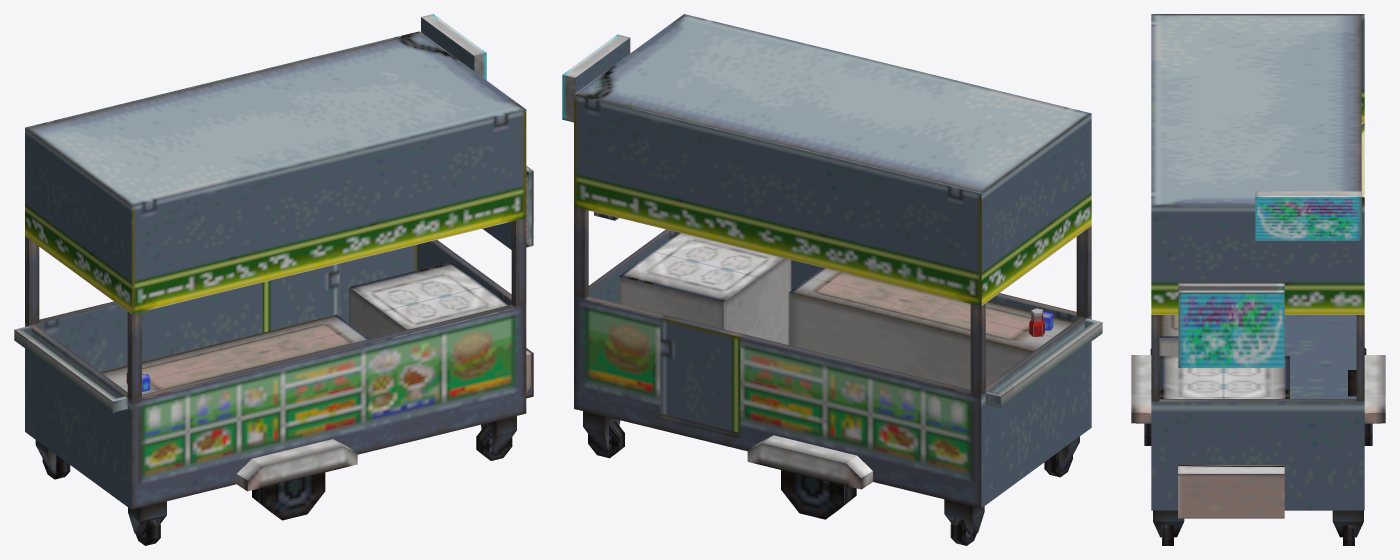
The model's file is Poly_SF_Outside_B_Food_Stall_01.obj.
The picture shows the model from 3 angles, left to right: view 1: azimuth 30°, elevation 25°; view 2: azimuth 150°, elevation 25°; view 3: azimuth 270°, elevation 25°; orthographic projection. The views are drawn at different scales.
Parts seen in each view (by area): view 1: Cube.006, Cube.001, Cube.004, Cube.007, Cube.002, Cube.003; view 2: Cube.006, Cube.001, Cube.007, Cube.004, Cube.002, Cube.003; view 3: Cube.006, Cube.001, Cube.003, Cube.004, Cube.002.
Part boxes in pixels (x1,y1,x2,y2): Cube.006: [25, 14, 533, 509]; Cube.001: [14, 262, 508, 412]; Cube.004: [35, 416, 516, 545]; Cube.007: [262, 263, 339, 332]; Cube.002: [25, 218, 526, 401]; Cube.003: [236, 439, 357, 491]; Cube.006: [562, 14, 1091, 508]; Cube.001: [619, 232, 1102, 407]; Cube.007: [660, 315, 743, 438]; Cube.004: [583, 411, 1079, 545]; Cube.002: [574, 207, 1091, 395]; Cube.003: [747, 435, 872, 489]; Cube.006: [1151, 14, 1364, 518]; Cube.001: [1159, 315, 1289, 398]; Cube.003: [1131, 355, 1385, 423]; Cube.004: [1144, 348, 1372, 545]; Cube.002: [1151, 123, 1364, 401].
Bounding box in the file's own units: 2.07 × 1.67 × 1.06.
1 material, 1 textured.
